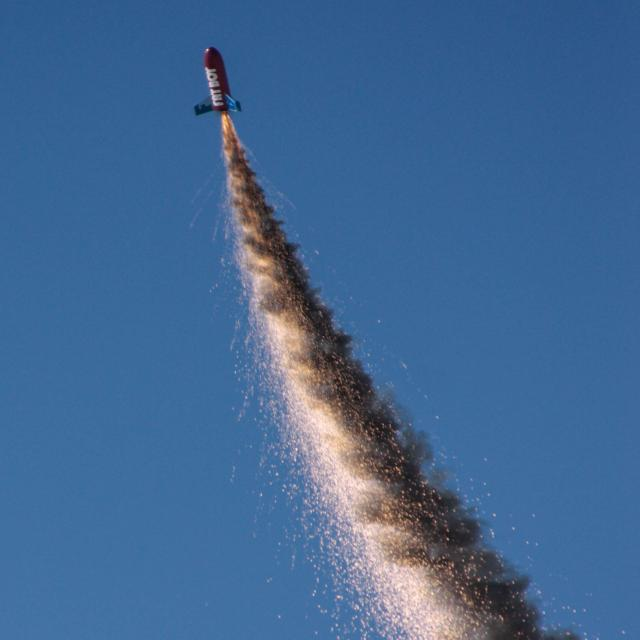Rocket: (192, 45, 245, 117)
